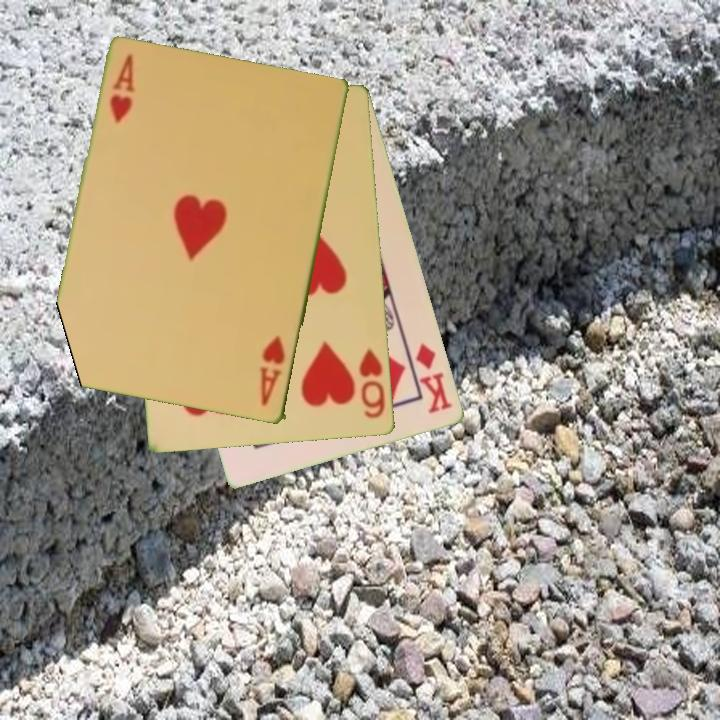6h: (356, 346, 388, 422)
Ah: (256, 332, 289, 410), (106, 51, 137, 127)
Kd: (413, 340, 456, 417)
